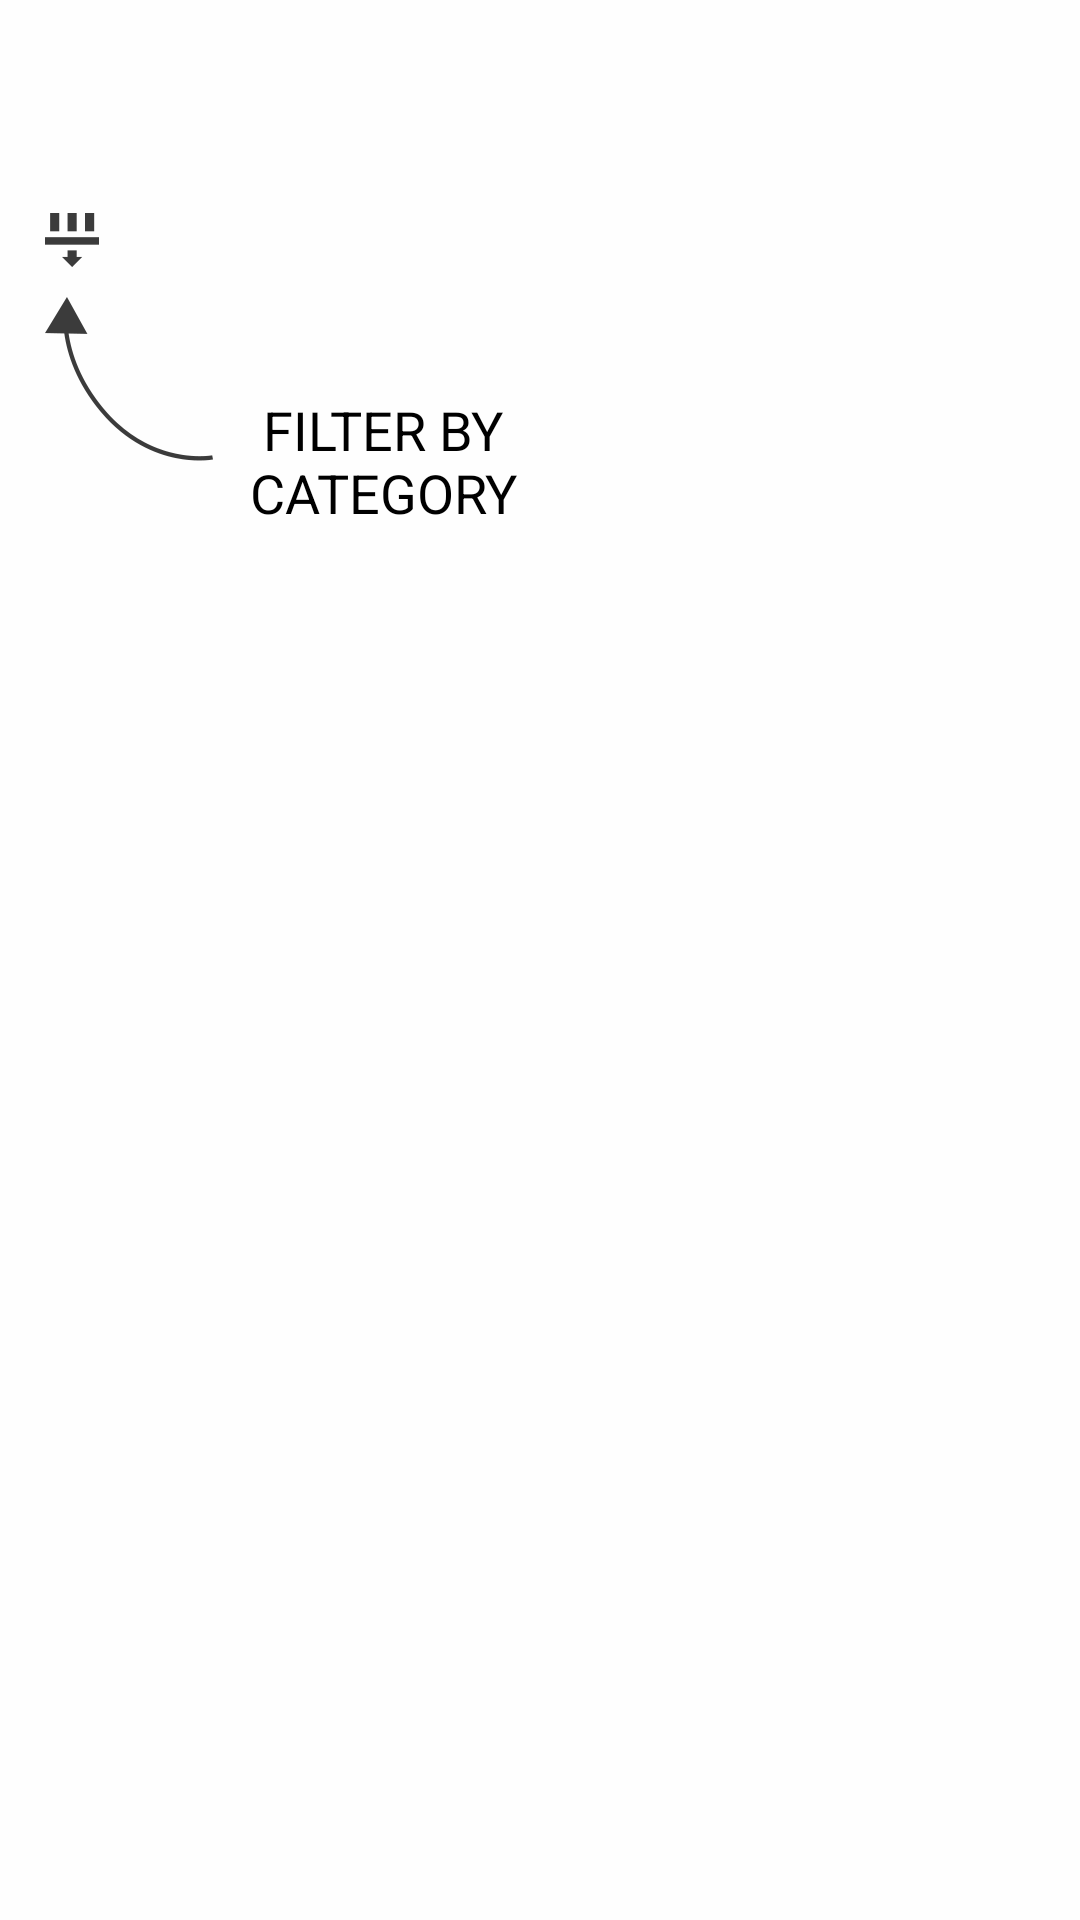

Screen size 1080w x 1920h. Icon name, then its center in pixels as point (x, y):
arrow up: point (129, 379)
Filters switch option: point (72, 240)
